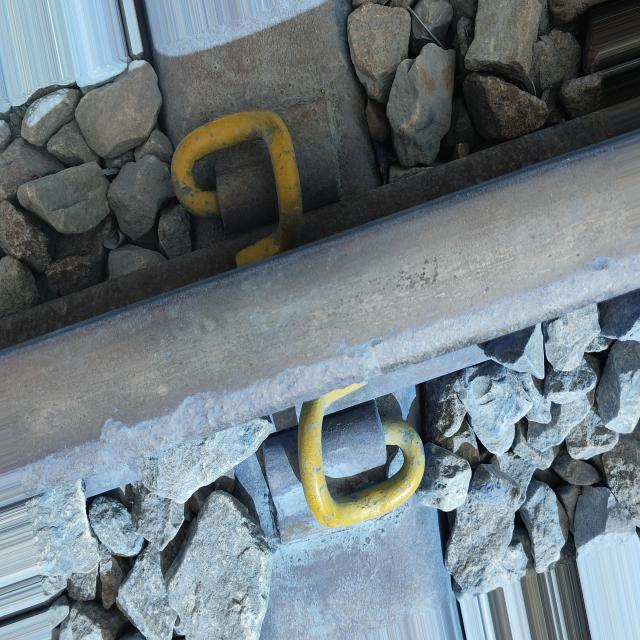Good Fasteners: (144, 74, 342, 293), (257, 378, 456, 575)
